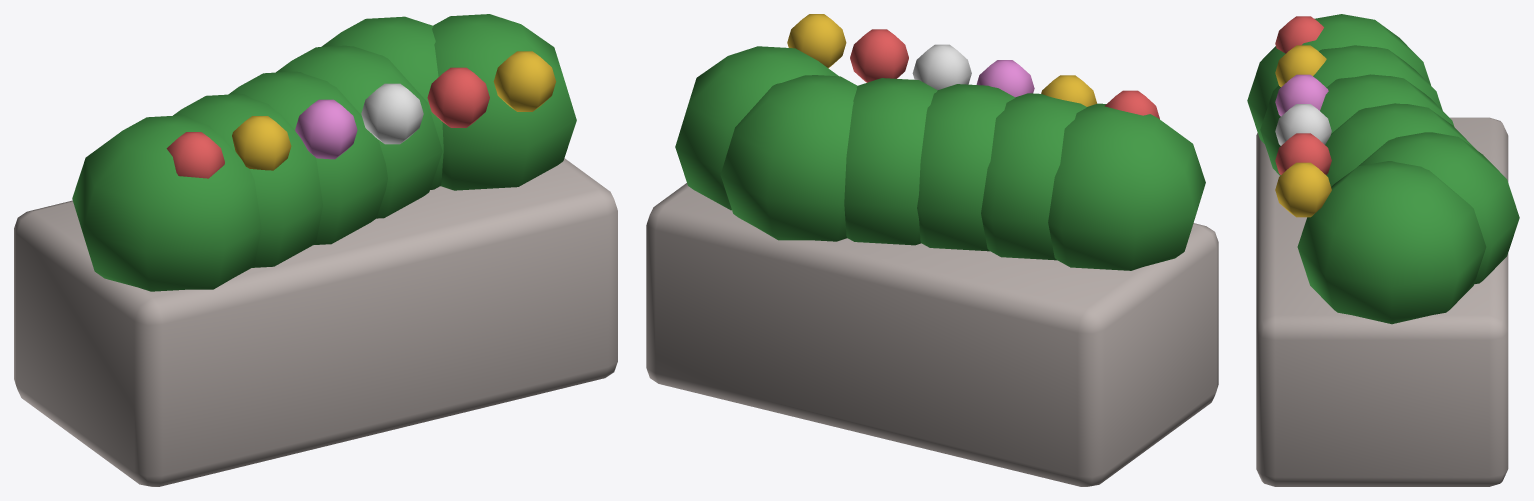
The model's file is prop_planter.glb.
3 renders of one model, left to right at view 1: azimuth 30°, elevation 25°; view 2: azimuth 150°, elevation 25°; view 3: azimuth 270°, elevation 25°, orthographic. The views are drawn at different scales.
Visible parts, largest first — view 1: prop_planter; view 2: prop_planter; view 3: prop_planter.
Boxes of the visible parts, x1=… form: prop_planter: x1=14, y1=14, x2=617, y2=486; prop_planter: x1=646, y1=14, x2=1218, y2=486; prop_planter: x1=1247, y1=14, x2=1519, y2=486.
Size of the model in its own units: 1.7 by 1.04 by 0.8655.
